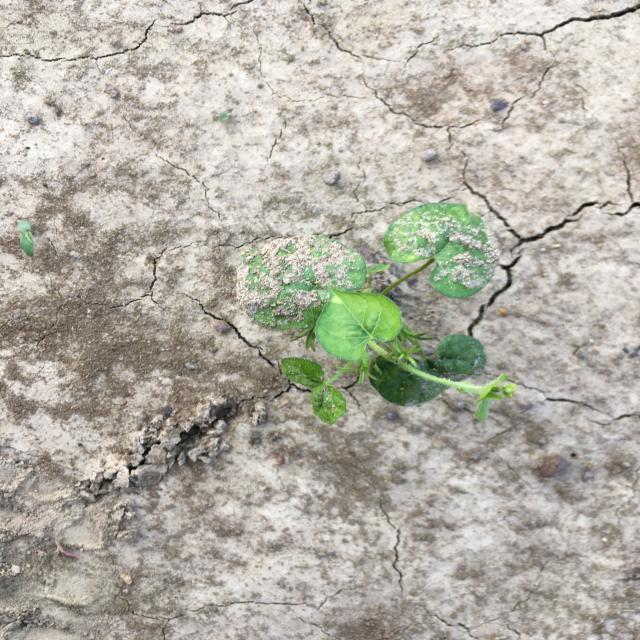MorningGlory: (233, 200, 520, 426)
